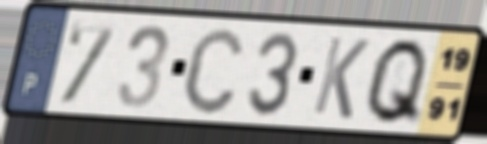3: (245, 29, 301, 118), (115, 22, 171, 110)
7: (59, 17, 120, 107)
C: (179, 24, 248, 117)
K: (309, 33, 373, 123)
Q: (361, 35, 432, 128)
